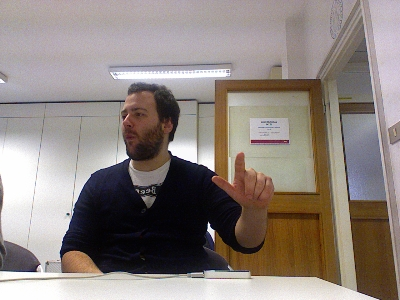枪: (211, 150, 275, 208)
